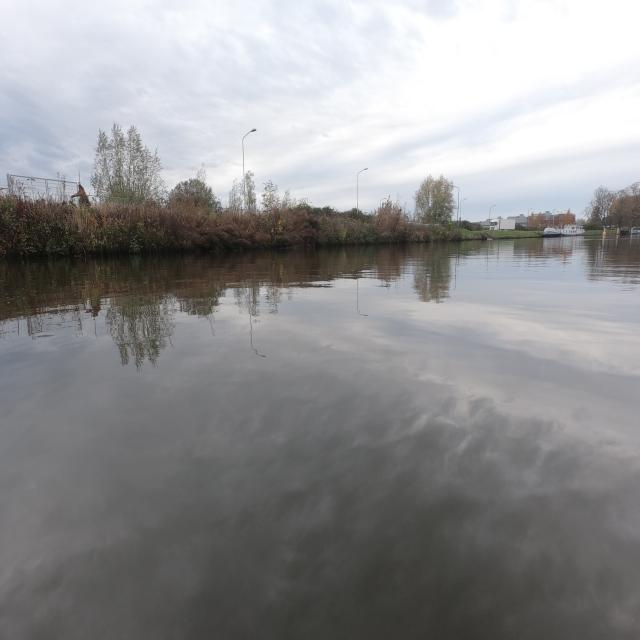boat: (543, 224, 584, 237)
grass: (460, 229, 542, 240)
reed: (0, 192, 448, 250)
sky: (0, 2, 638, 220)
water: (0, 235, 640, 640)
